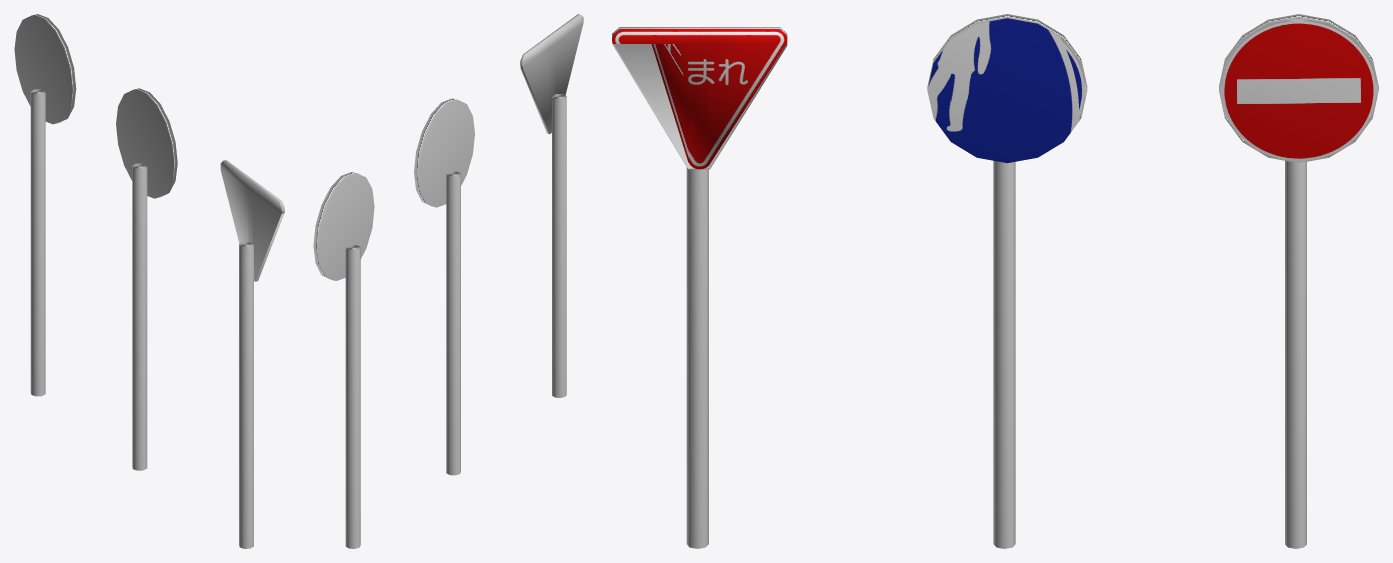
The model's file is 標識ｓ.fbx.
3 renders of one model, left to right at view 1: azimuth 30°, elevation 25°; view 2: azimuth 150°, elevation 25°; view 3: azimuth 270°, elevation 25°, orthographic. The views are drawn at different scales.
Parts seen in each view (by area): view 1: Cylinder.001, Cylinder.006, Cylinder.005, Cylinder.002, Cylinder, ill-tsi_330-B; view 2: Cylinder.006, Cylinder.002, Cylinder.005, Cylinder.001, Cylinder, ill-tsi_330-B; view 3: Cylinder.005, Cylinder.002, ill-tsi_330-B, Cylinder.001, Cylinder, Cylinder.006.
Boxes of the visible parts, <box> form: Cylinder.001: <box>132,163,147,470</box>; Cylinder.006: <box>30,89,45,396</box>; Cylinder.005: <box>14,14,76,124</box>; Cylinder.002: <box>116,88,177,198</box>; Cylinder: <box>239,241,253,548</box>; ill-tsi_330-B: <box>220,160,284,281</box>; Cylinder.006: <box>345,244,360,548</box>; Cylinder.002: <box>414,98,474,207</box>; Cylinder.005: <box>313,172,374,280</box>; Cylinder.001: <box>446,171,460,475</box>; Cylinder: <box>552,94,566,397</box>; ill-tsi_330-B: <box>520,14,583,134</box>; Cylinder.005: <box>1219,14,1378,163</box>; Cylinder.002: <box>927,14,1087,163</box>; ill-tsi_330-B: <box>612,27,787,169</box>; Cylinder.001: <box>993,160,1015,548</box>; Cylinder: <box>686,167,708,548</box>; Cylinder.006: <box>1285,161,1306,548</box>.
Bounding box in the file's own units: 19.19 × 380 × 495.
